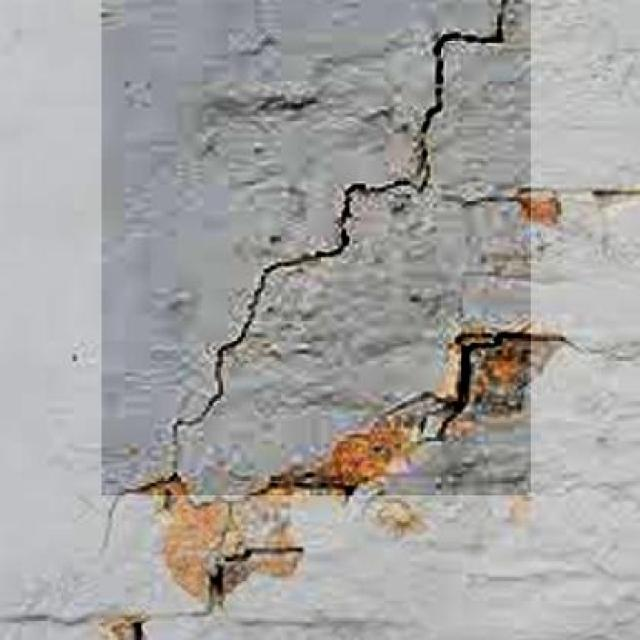Crack: (170, 0, 500, 315), (355, 333, 499, 469), (126, 545, 290, 640), (164, 316, 275, 395), (80, 485, 134, 553)
